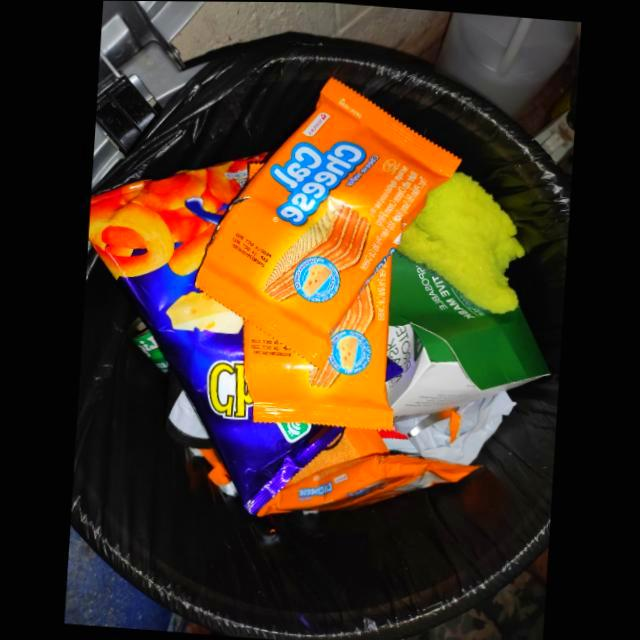cardboard: (384, 250, 550, 418)
food_wrapper: (87, 154, 344, 517), (193, 78, 461, 369), (242, 255, 393, 430), (252, 453, 478, 516)
